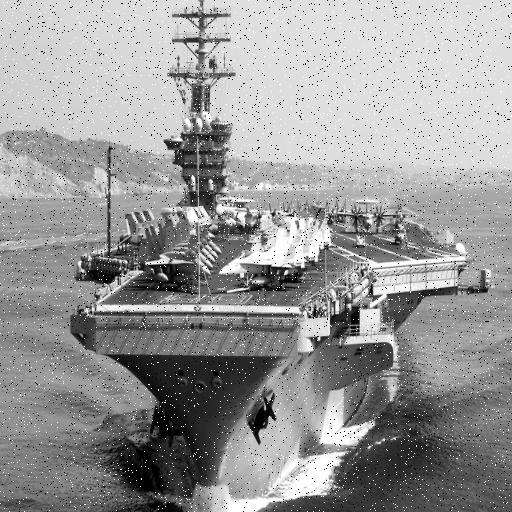Portanaves: (70, 1, 498, 504)
